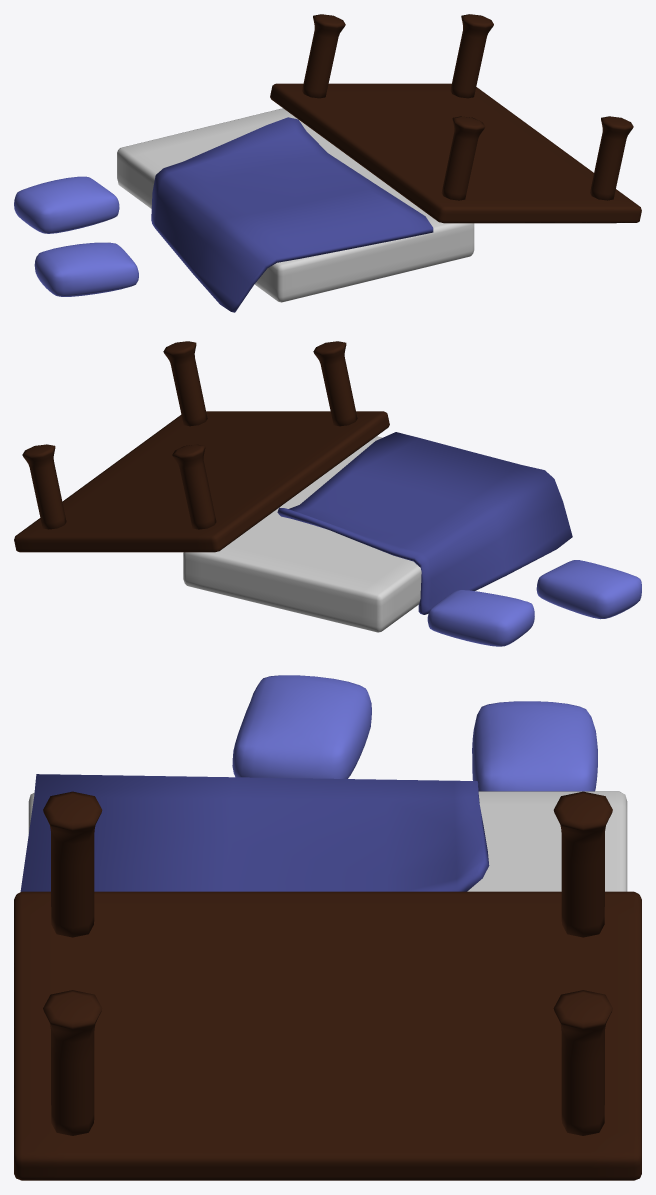
File: bed_broken.fbx
3 views of the same model, one above another, from view 1: azimuth 30°, elevation 25°; view 2: azimuth 150°, elevation 25°; view 3: azimuth 270°, elevation 25° (orthographic). The views are drawn at different scales.
Visible parts, largest first — view 1: Cube; view 2: Cube; view 3: Cube.
Part boxes in pixels (x1,y1,x2,y2): Cube: (14, 14, 641, 312); Cube: (14, 341, 641, 646); Cube: (14, 675, 641, 1180).
Bounding box in the file's own units: 1232 × 312 × 696.
